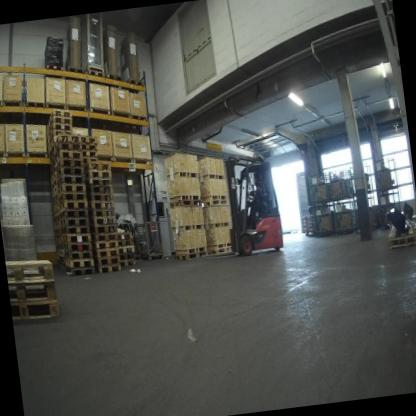forklift: (212, 144, 290, 258)
pallet: (6, 254, 55, 284), (11, 296, 60, 326), (8, 277, 57, 306), (384, 220, 416, 253), (43, 106, 74, 130), (167, 197, 203, 213), (82, 63, 109, 84), (46, 114, 73, 135), (56, 173, 86, 191), (44, 122, 72, 141), (52, 150, 84, 166), (52, 132, 82, 149), (81, 157, 111, 174), (53, 158, 84, 174), (58, 198, 87, 215), (59, 215, 90, 230), (52, 142, 81, 158), (64, 256, 97, 270), (59, 208, 89, 223), (55, 165, 85, 180), (64, 263, 95, 277), (46, 130, 71, 147), (62, 240, 92, 254), (57, 189, 85, 204), (84, 165, 112, 180), (87, 197, 115, 212), (176, 248, 208, 261), (127, 75, 145, 97), (87, 190, 115, 204), (89, 213, 117, 227), (105, 68, 124, 88), (63, 247, 92, 260), (57, 182, 86, 195), (83, 173, 112, 186), (59, 223, 90, 235), (43, 60, 66, 76), (85, 181, 113, 194), (201, 196, 229, 209), (62, 233, 91, 245), (65, 61, 88, 76), (92, 238, 118, 251), (94, 246, 119, 259), (91, 229, 118, 241), (94, 254, 120, 266), (90, 224, 117, 235), (94, 263, 121, 273), (88, 208, 112, 218), (210, 247, 235, 256), (81, 148, 98, 160), (114, 230, 132, 241), (118, 252, 136, 263), (80, 141, 97, 151), (81, 134, 96, 145), (116, 239, 133, 248), (117, 245, 134, 254), (80, 155, 97, 162), (305, 230, 316, 239), (51, 198, 59, 210), (50, 186, 58, 197), (49, 174, 57, 185), (301, 213, 313, 220), (302, 217, 314, 224), (53, 213, 60, 225), (57, 240, 64, 252), (50, 180, 58, 190), (57, 248, 65, 258), (48, 142, 54, 155), (304, 225, 315, 232), (121, 260, 136, 265), (51, 193, 59, 202), (49, 163, 55, 175), (47, 153, 55, 162), (303, 221, 314, 227), (53, 207, 60, 215), (58, 255, 64, 264), (56, 234, 63, 241), (51, 169, 57, 177), (54, 222, 60, 229), (55, 228, 60, 234)
stillage: (134, 218, 166, 262), (115, 213, 142, 263), (370, 155, 399, 194), (326, 166, 356, 202), (330, 199, 359, 235), (376, 191, 402, 230), (347, 163, 375, 195), (310, 200, 334, 236), (354, 194, 378, 230), (306, 171, 330, 204)
